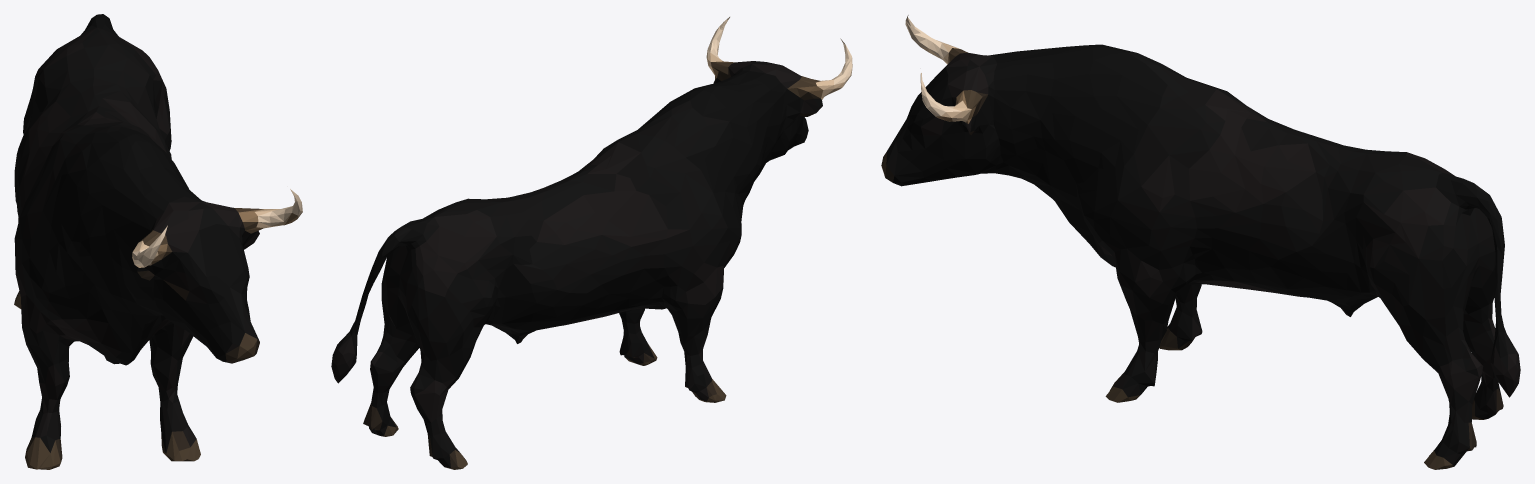
The model's file is Bull.glb.
The picture shows the model from 3 angles, left to right: view 1: azimuth 30°, elevation 25°; view 2: azimuth 150°, elevation 25°; view 3: azimuth 270°, elevation 25°; orthographic projection. The views are drawn at different scales.
Visible parts, largest first — view 1: low-poly-bull; view 2: low-poly-bull; view 3: low-poly-bull.
Part boxes in pixels (x1,y1,x2,y2): low-poly-bull: [14, 14, 302, 469]; low-poly-bull: [331, 17, 852, 469]; low-poly-bull: [881, 15, 1520, 469].
Bounding box in the file's own units: 1.38 × 1.41 × 2.5.
1 material, 1 textured.
